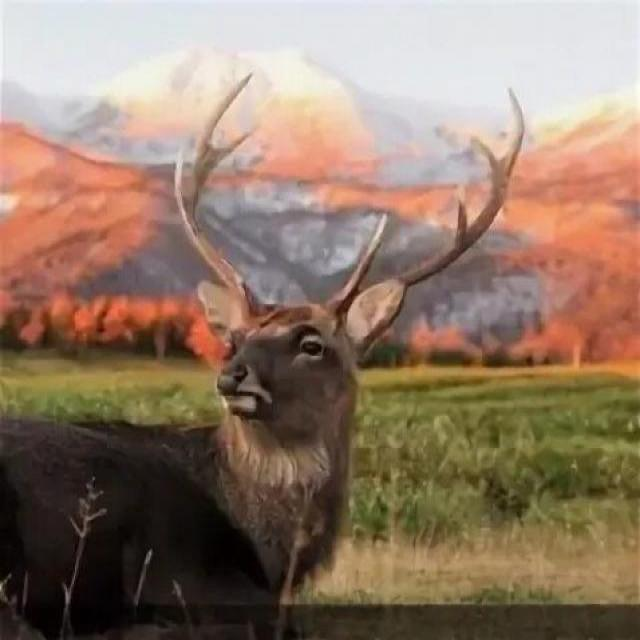deer: (114, 207, 490, 624)
